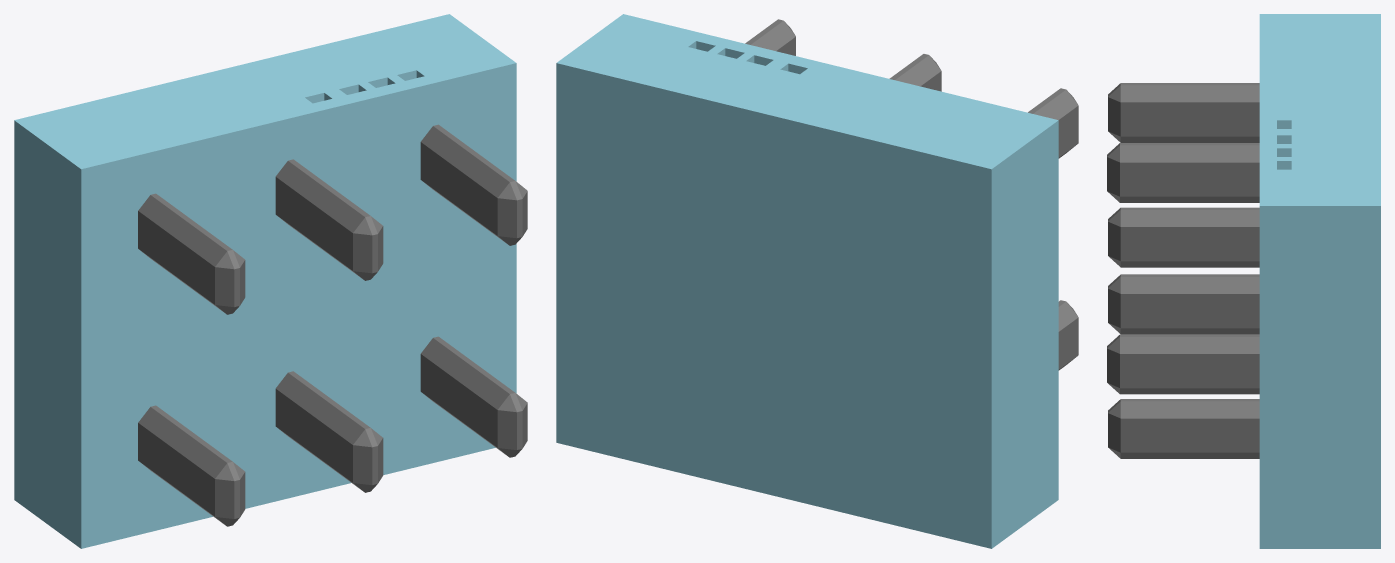
File: apDefault.obj
The picture shows the model from 3 angles, left to right: view 1: azimuth 30°, elevation 25°; view 2: azimuth 150°, elevation 25°; view 3: azimuth 270°, elevation 25°; orthographic projection. The views are drawn at different scales.
Visible parts, largest first — view 1: Box_Cube_Cube.002, Antenna.004_Cube.001, Antenna.001_Cube.001, Antenna.002_Cube.001, Antenna_Cube.002, Antenna.003_Cube.001, Antenna.005_Cube.001; view 2: Box_Cube_Cube.002, Antenna.005_Cube.001, Antenna_Cube.002, Antenna.004_Cube.001, Antenna.003_Cube.001; view 3: Box_Cube_Cube.002, Antenna.001_Cube.001, Antenna_Cube.002, Antenna.003_Cube.001, Antenna.004_Cube.001, Antenna.002_Cube.001, Antenna.005_Cube.001.
Part boxes in pixels (x1,y1,x2,y2): Box_Cube_Cube.002: (14, 14, 516, 548); Antenna.004_Cube.001: (275, 159, 383, 280); Antenna.001_Cube.001: (275, 371, 383, 492); Antenna.002_Cube.001: (420, 336, 527, 457); Antenna_Cube.002: (138, 405, 245, 526); Antenna.003_Cube.001: (420, 124, 527, 245); Antenna.005_Cube.001: (138, 193, 245, 314); Box_Cube_Cube.002: (556, 14, 1058, 548); Antenna.005_Cube.001: (1028, 88, 1078, 158); Antenna_Cube.002: (1058, 300, 1078, 370); Antenna.004_Cube.001: (889, 54, 941, 91); Antenna.003_Cube.001: (745, 19, 795, 55); Box_Cube_Cube.002: (1259, 14, 1380, 548); Antenna.001_Cube.001: (1107, 334, 1259, 394); Antenna_Cube.002: (1108, 274, 1259, 334); Antenna.003_Cube.001: (1108, 207, 1259, 267); Antenna.004_Cube.001: (1107, 143, 1259, 202); Antenna.002_Cube.001: (1108, 399, 1259, 458); Antenna.005_Cube.001: (1108, 83, 1259, 142).
Size of what is drawn, in the model's own units: 1.2 by 1.02 by 0.7232.
